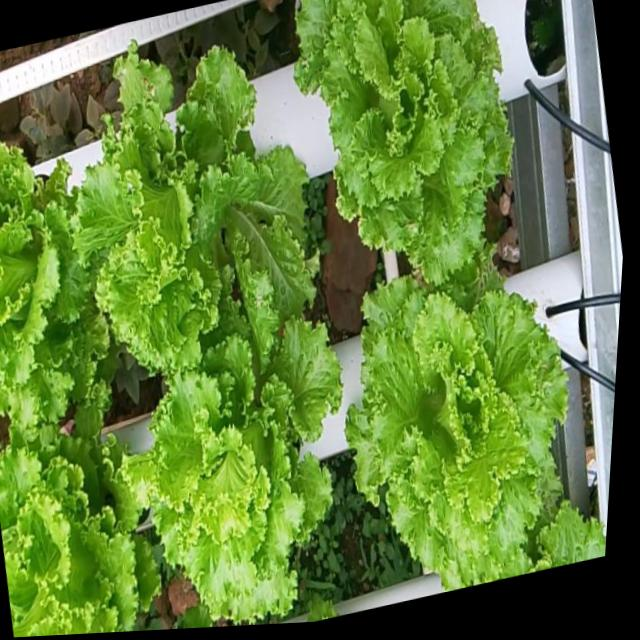Mature: (78, 9, 315, 386), (346, 265, 599, 591), (124, 323, 344, 627), (296, 0, 515, 292), (0, 415, 160, 637), (0, 149, 109, 434)
